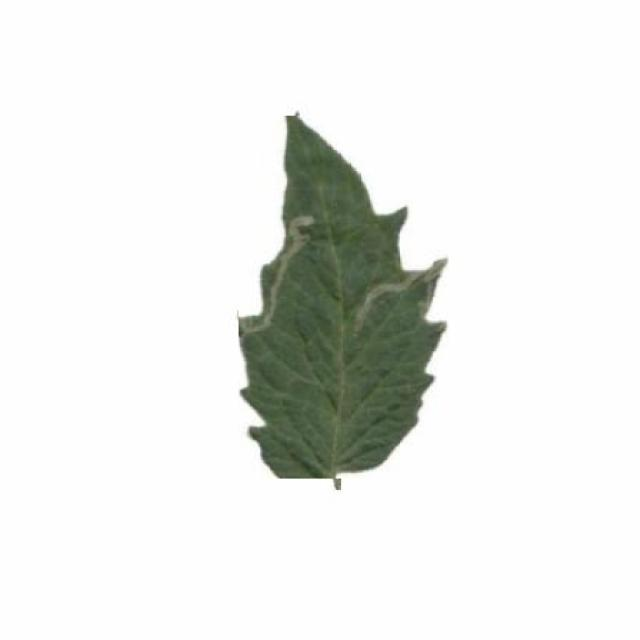Leaf Miner: (238, 117, 448, 480)
